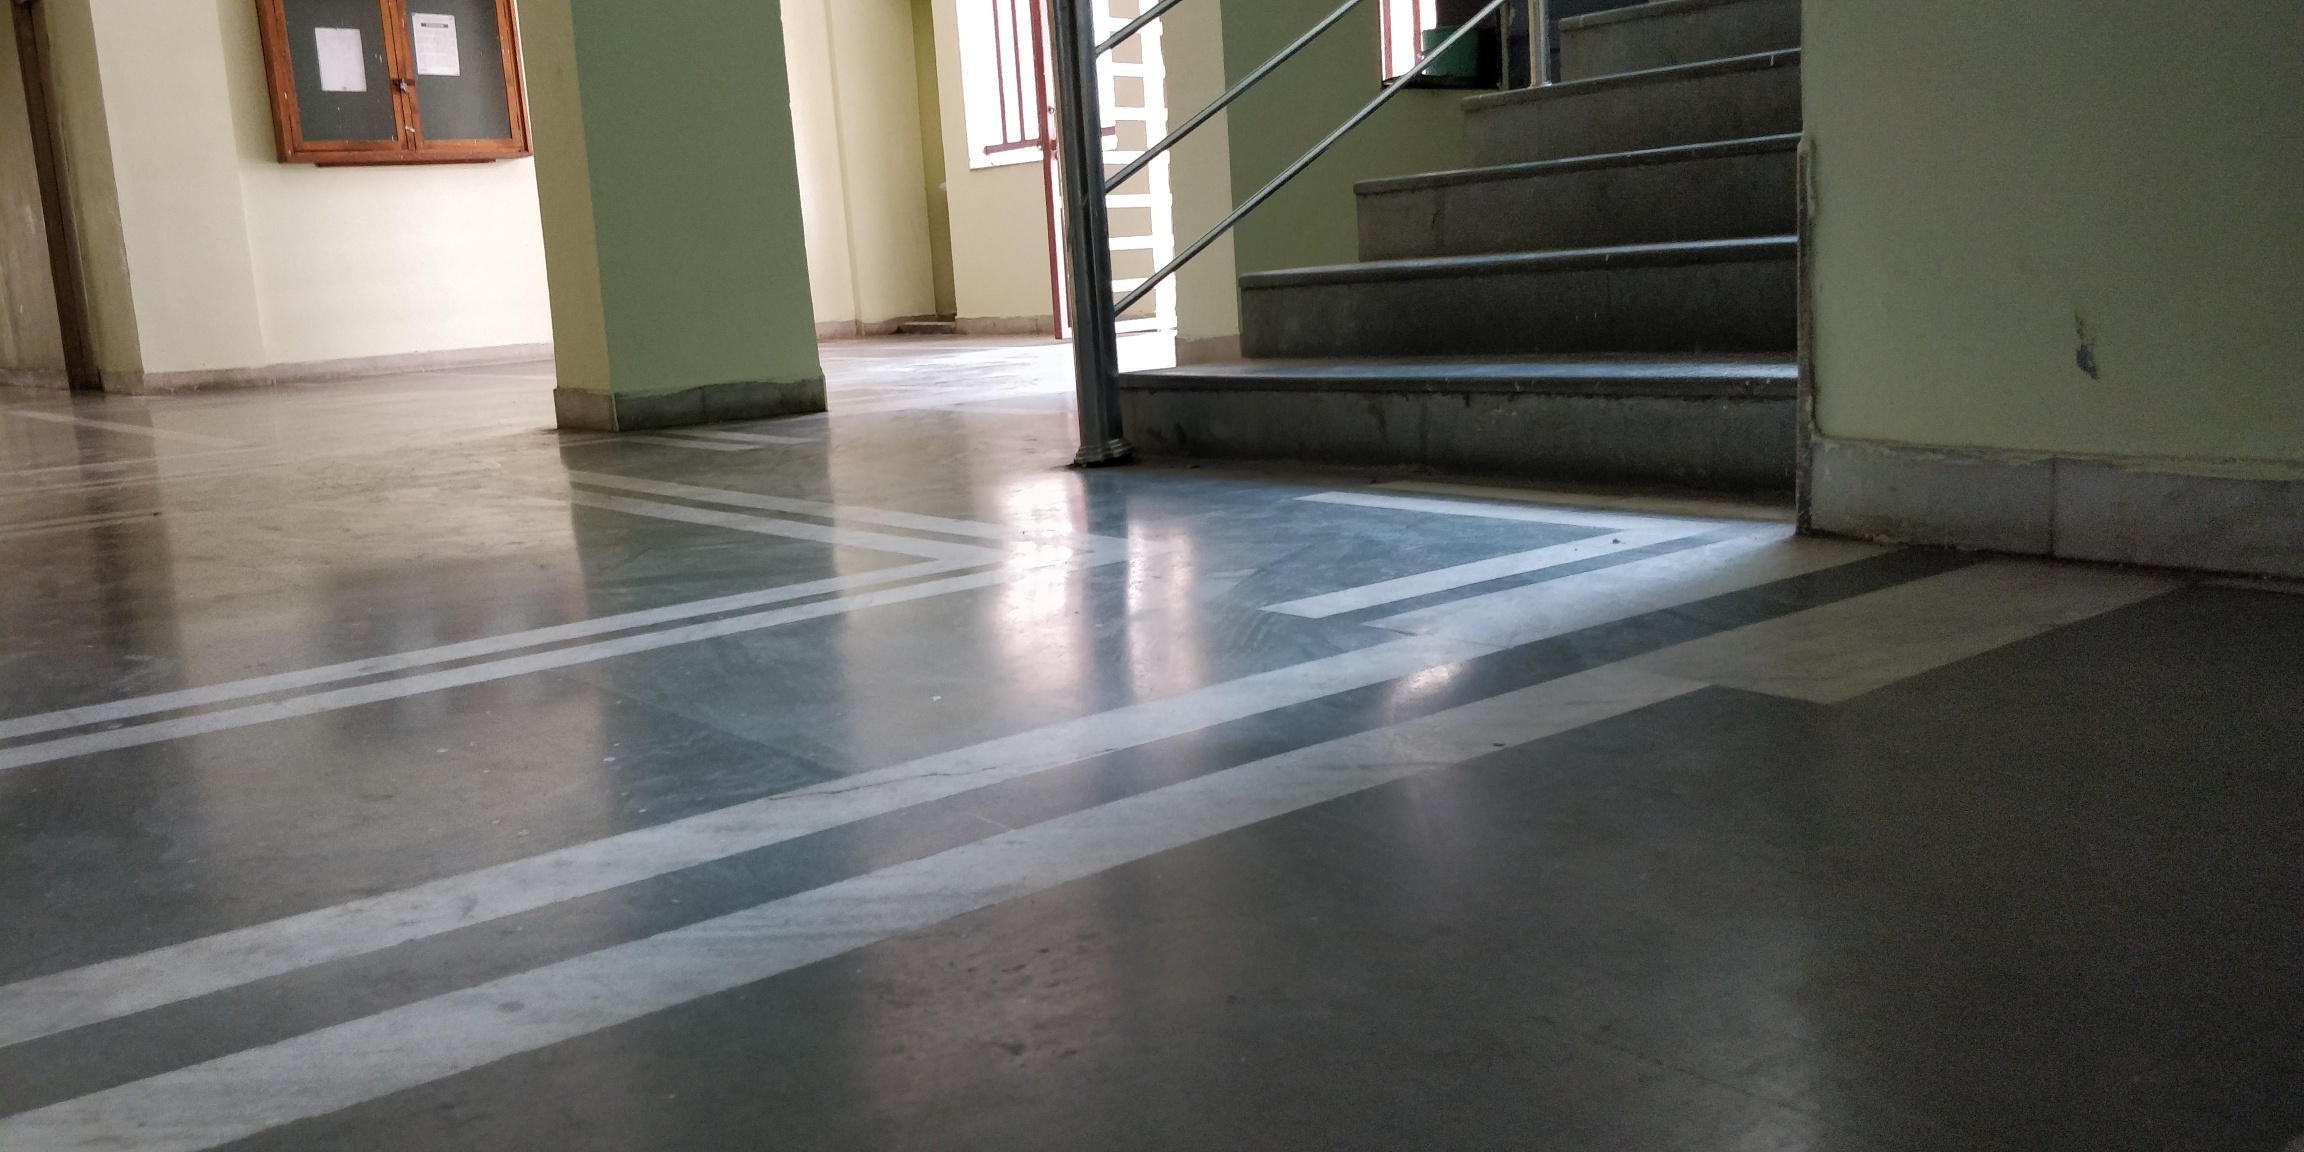stairs_up: (1118, 12, 1799, 473)
